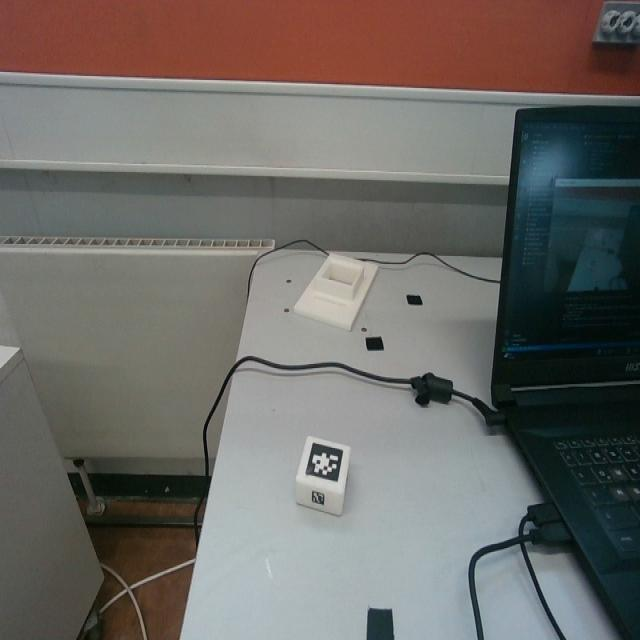Cube: (296, 433, 352, 515)
